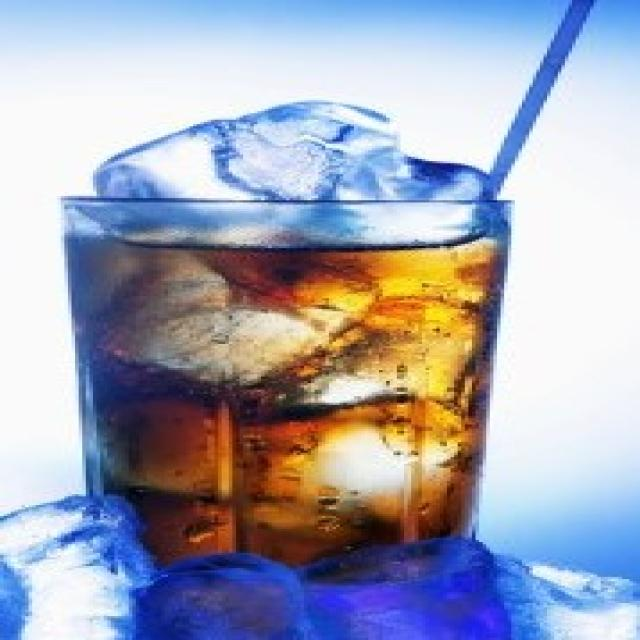electronic: (54, 192, 512, 574)
